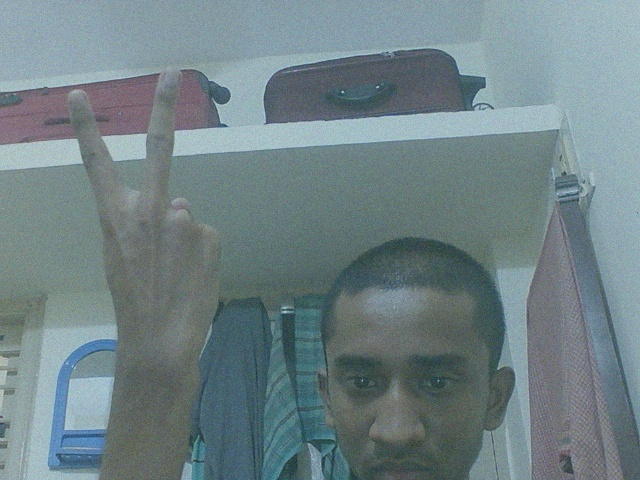hand: (62, 64, 231, 371)
